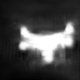plane: (16, 19, 80, 68)
